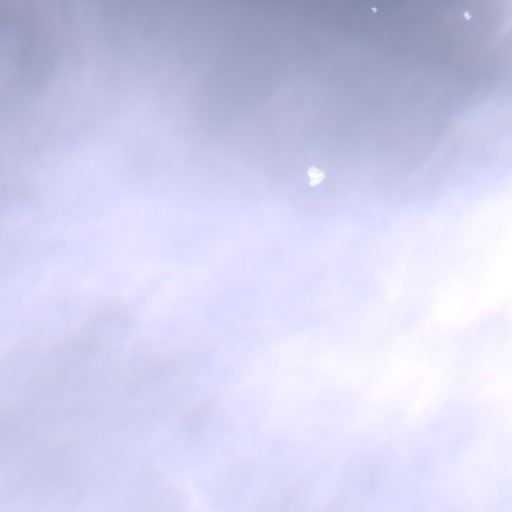Iceberg: (307, 166, 324, 186), (464, 11, 470, 19), (371, 7, 376, 12)
